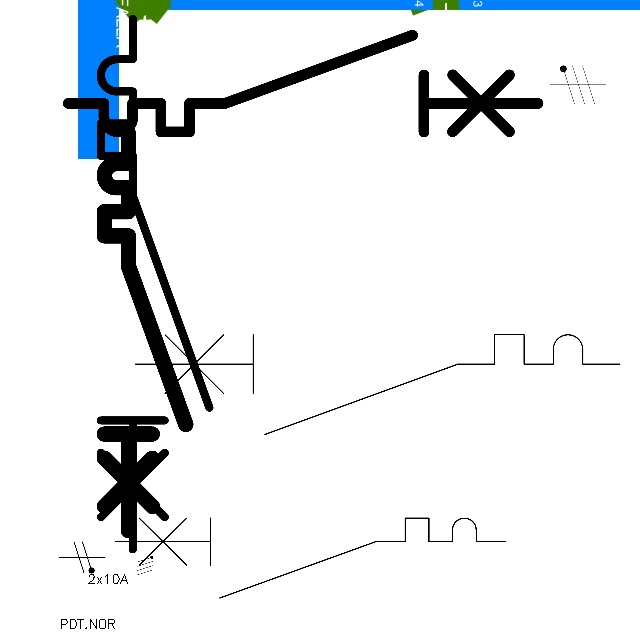interruptor_termomagnetico: (87, 5, 223, 563), (123, 322, 632, 446), (56, 23, 550, 144), (94, 123, 196, 541), (105, 508, 516, 608)
